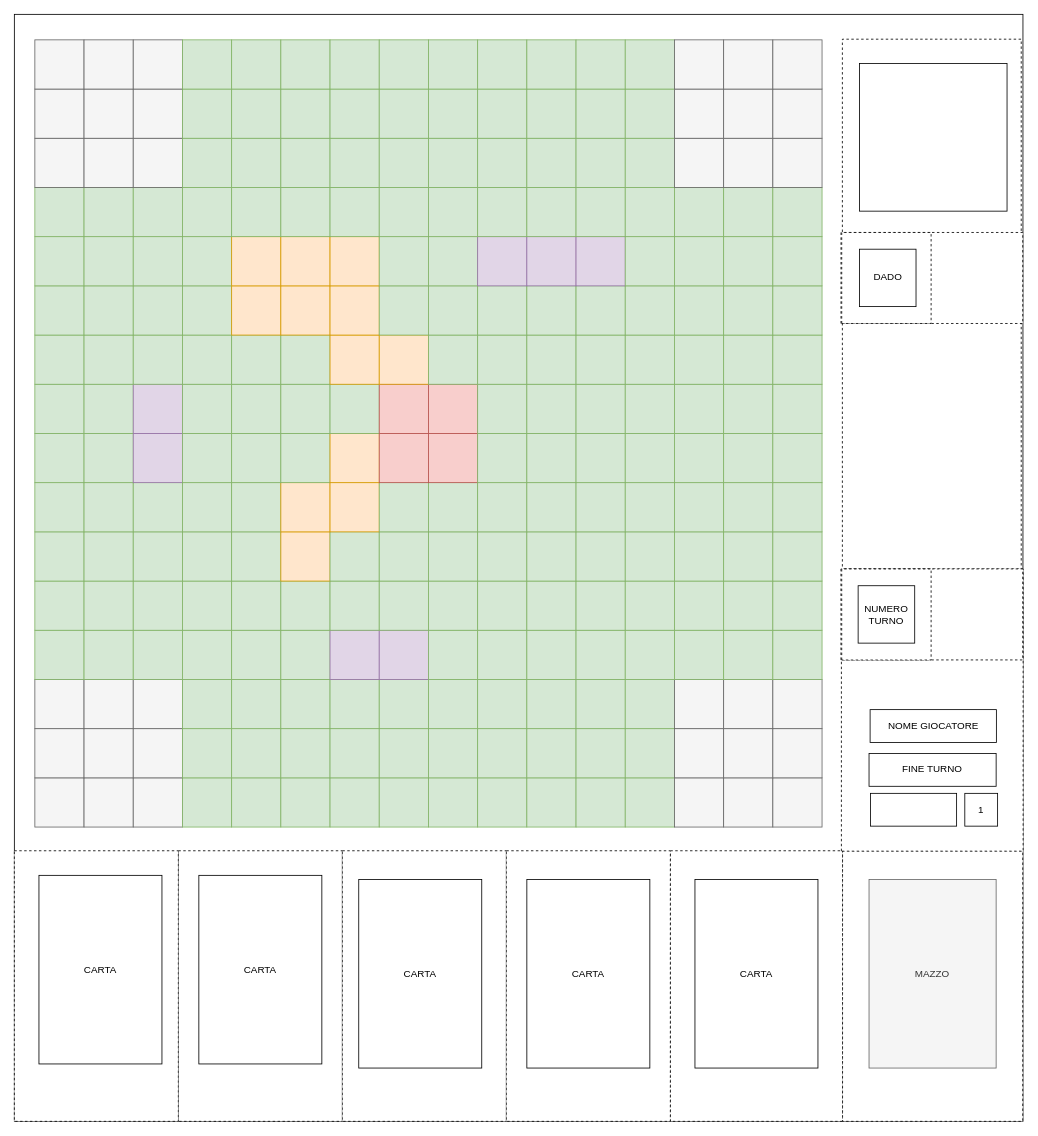
The diagram is 1038 pixels wide and 1136 high, and some of its shapes have lost their labels. The centre of each missing label's shape, as x and y in pixels:
"PESCA" goes at point (913, 809).
"ROSA DEI VENTI" goes at point (933, 137).
